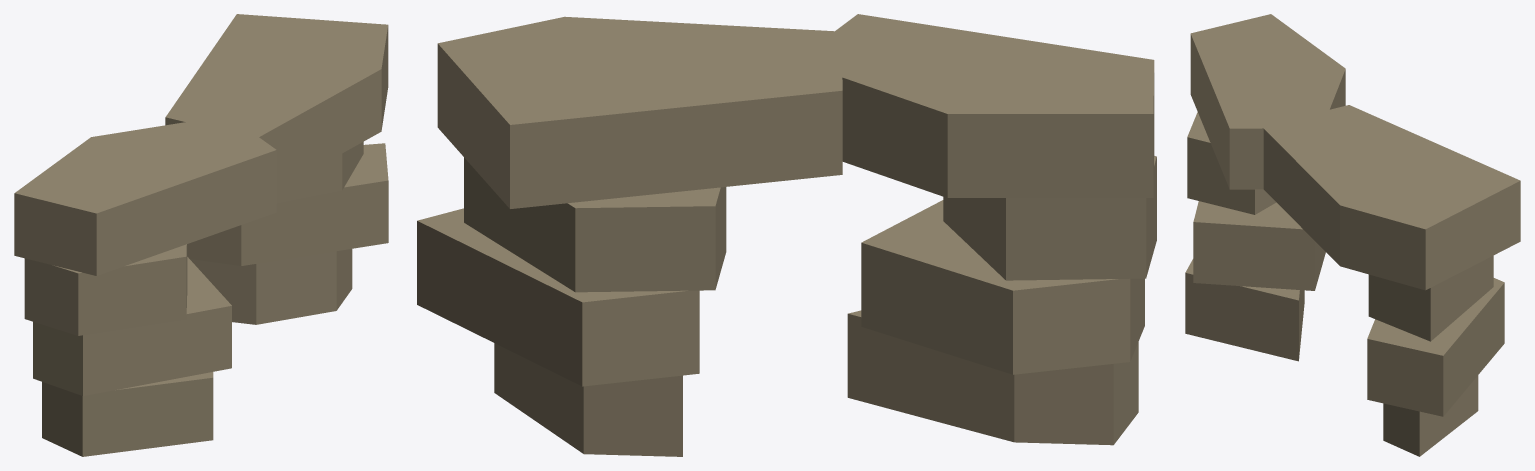
Rendered from 地形块C1.FBX.
The picture shows the model from 3 angles, left to right: view 1: azimuth 30°, elevation 25°; view 2: azimuth 150°, elevation 25°; view 3: azimuth 270°, elevation 25°; orthographic projection. The views are drawn at different scales.
Visible parts, largest first — view 1: 地形块C1; view 2: 地形块C1; view 3: 地形块C1.
Part boxes in pixels (x1,y1,x2,y2): 地形块C1: (14, 14, 388, 456); 地形块C1: (417, 14, 1156, 456); 地形块C1: (1185, 14, 1520, 456).
Size of the model in its own units: 5.96 by 3.13 by 3.87.
1 material, 1 textured.
